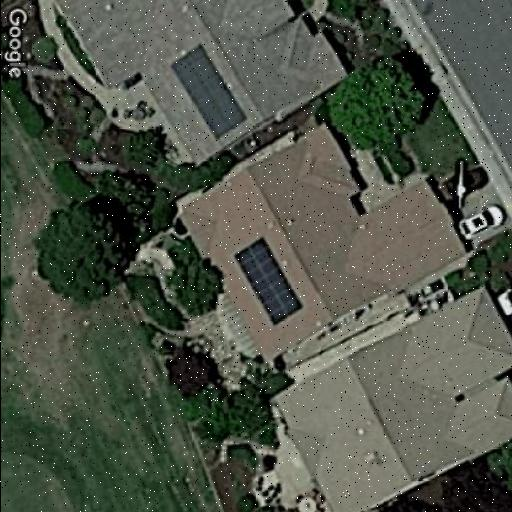solar-panel: (169, 40, 249, 140), (233, 236, 305, 326)
